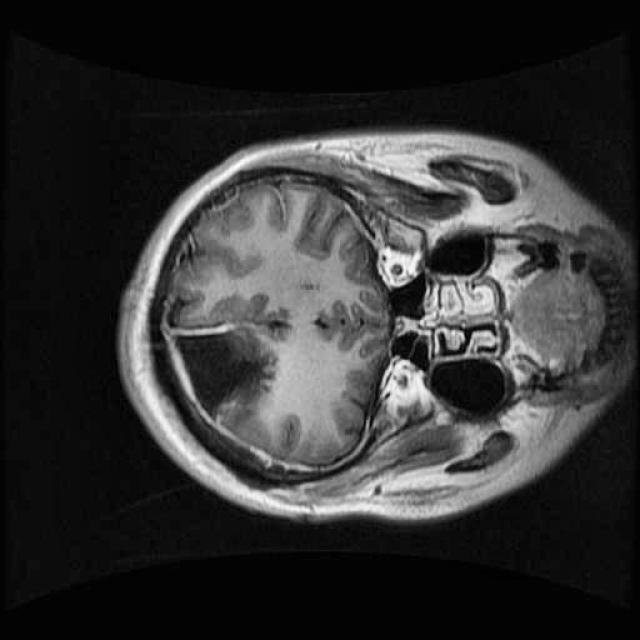Non-Tumor: (155, 316, 284, 440)
